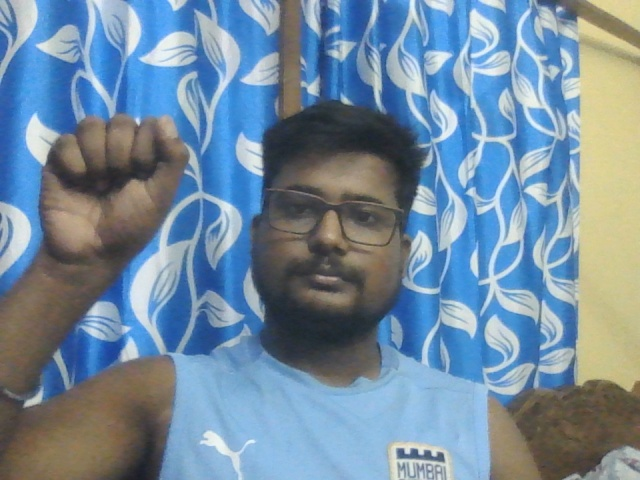A: (39, 115, 190, 259)
